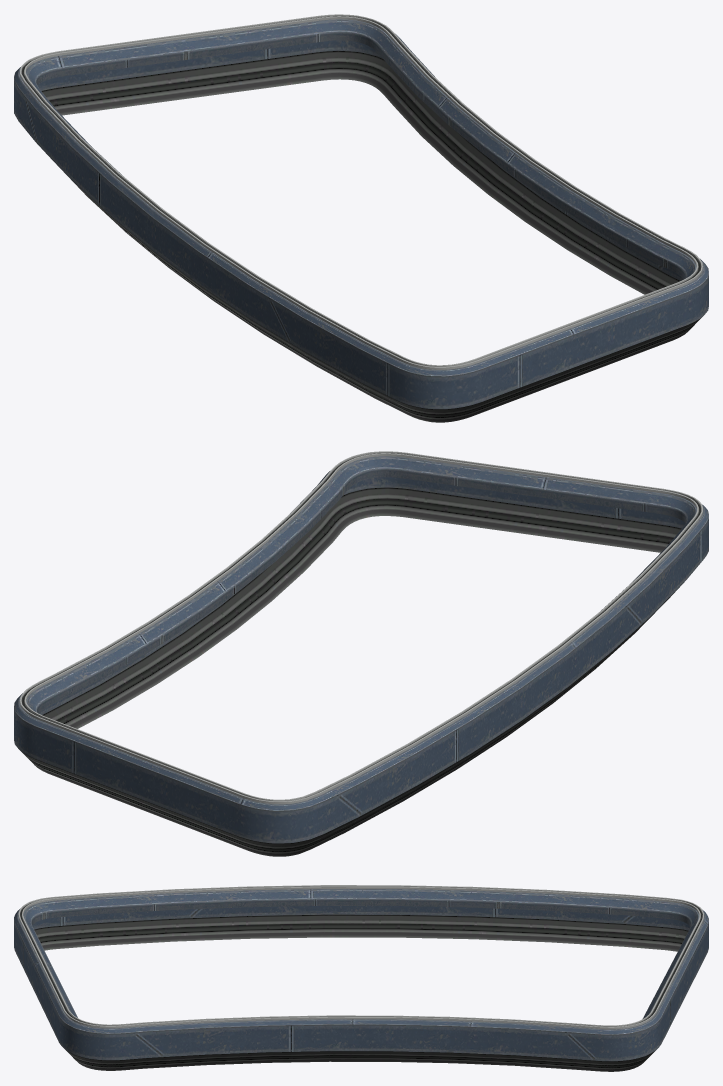
File: Club_VIPFloorTrim_01.FBX
3 renders of one model, top to bottom at view 1: azimuth 30°, elevation 25°; view 2: azimuth 150°, elevation 25°; view 3: azimuth 270°, elevation 25°, orthographic. The views are drawn at different scales.
Parts seen in each view (by area): view 1: Club_VIPFloorTrim_01; view 2: Club_VIPFloorTrim_01; view 3: Club_VIPFloorTrim_01.
Boxes of the visible parts, left/top/right/bottom form: Club_VIPFloorTrim_01: left=14, top=14, right=708, bottom=422; Club_VIPFloorTrim_01: left=14, top=451, right=708, bottom=856; Club_VIPFloorTrim_01: left=14, top=885, right=708, bottom=1071.
Size of the model in its own units: 9.46 by 1.46 by 18.94.
